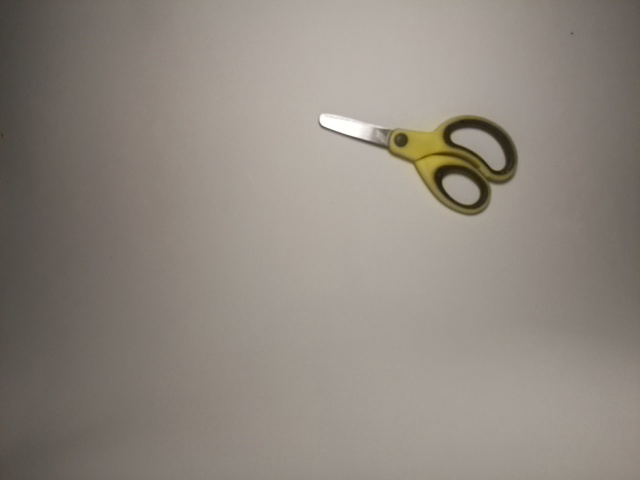Tesoura: (308, 102, 528, 217)
